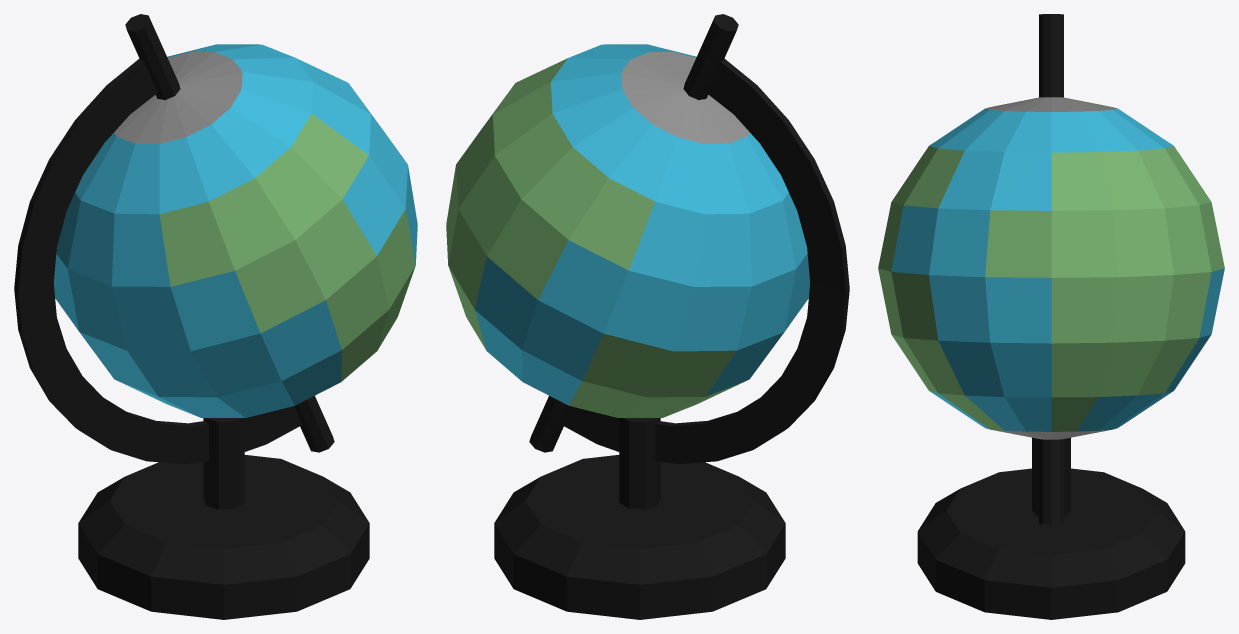
File: World Globe.fbx
3 renders of one model, left to right at view 1: azimuth 30°, elevation 25°; view 2: azimuth 150°, elevation 25°; view 3: azimuth 270°, elevation 25°, orthographic. The views are drawn at different scales.
Parts seen in each view (by area): view 1: World Globe; view 2: World Globe; view 3: World Globe.
Part boxes in pixels (box(x1,y1,x2,y2)): World Globe: box(14, 14, 417, 619); World Globe: box(446, 14, 849, 619); World Globe: box(878, 14, 1224, 619).
Size of the model in its own units: 39.63 by 56.1 by 34.25.
